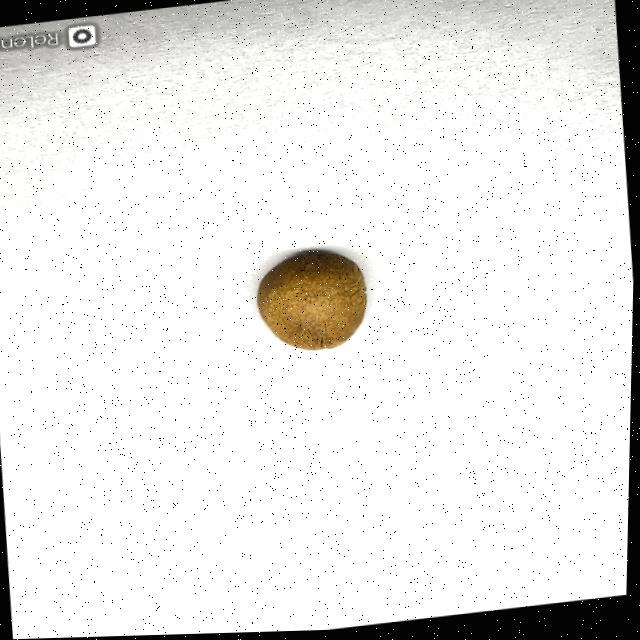Quaker: (255, 247, 373, 360)
